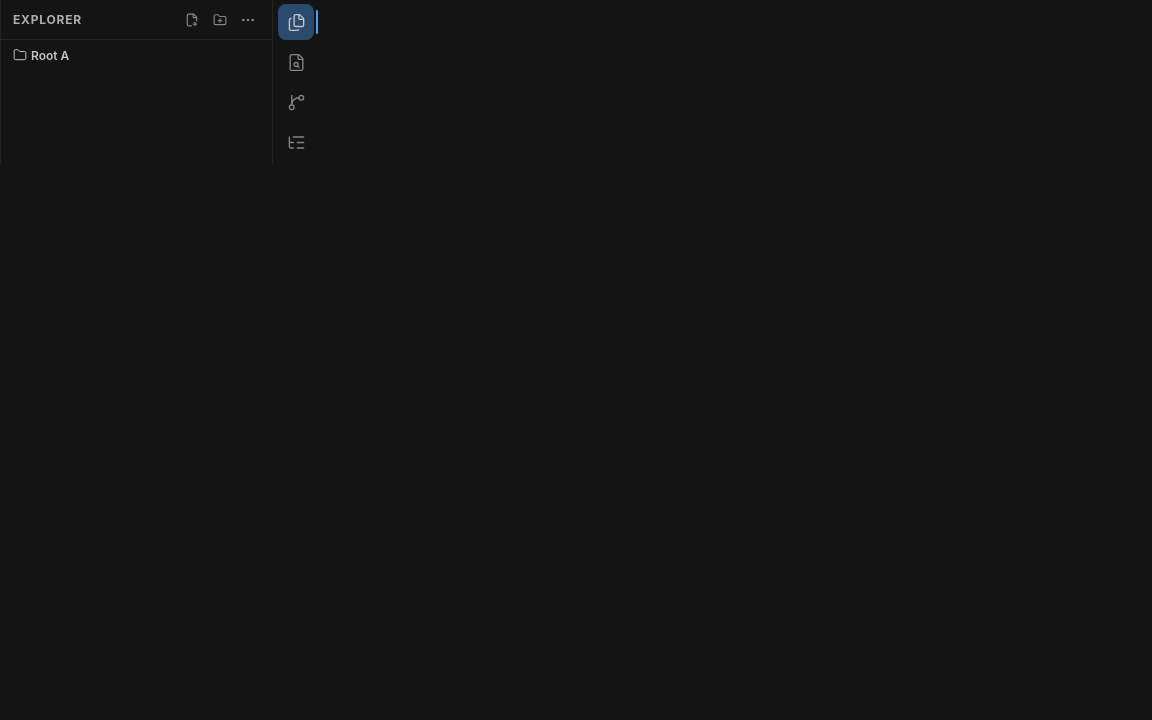
RightSidebar Explorer Rename File › closes instead of retargeting when another file is selected in the same Project
Click the button named "More Explorer actions": click(248, 20) x1=236 y1=8 x2=260 y2=32
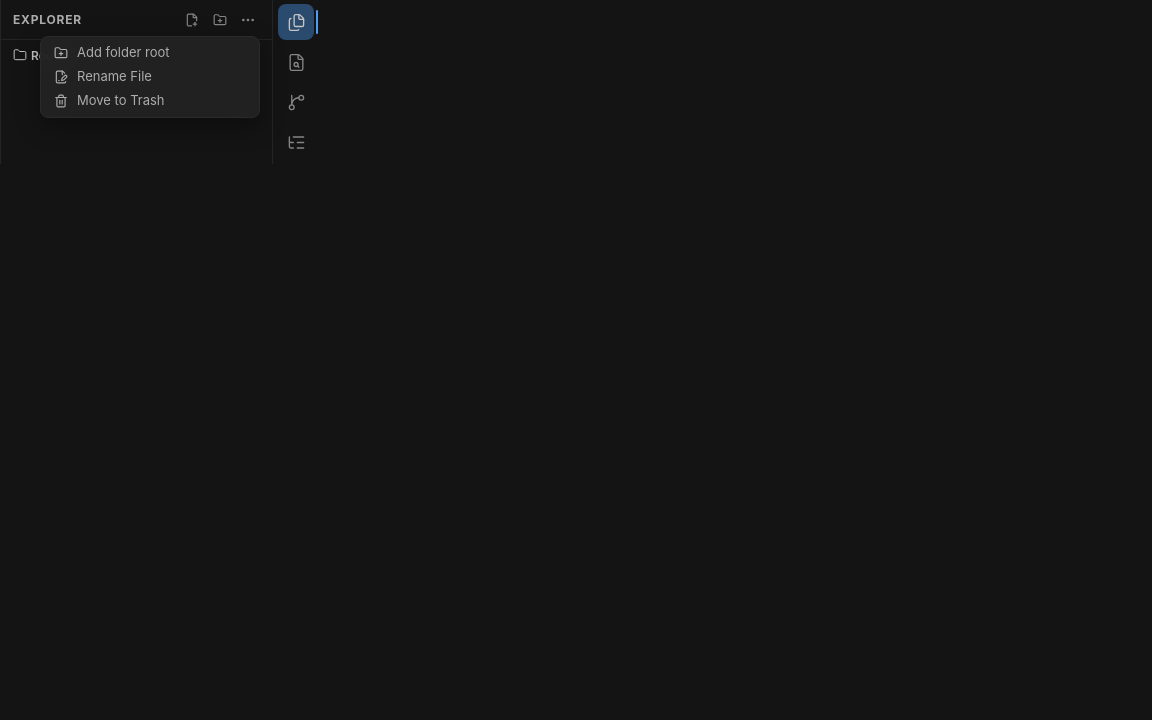
Click the menu item "Rename File": click(150, 76) x1=45 y1=64 x2=255 y2=88
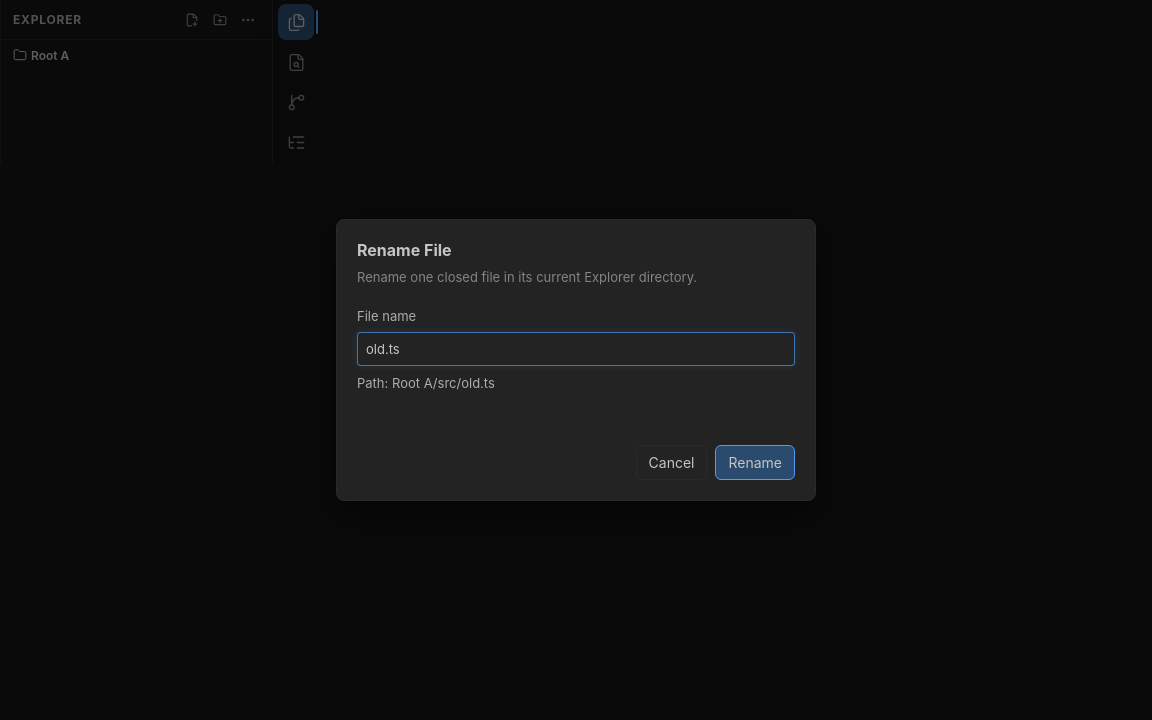
Check: the field labelled "File name" is shown, box x1=357 y1=332 x2=795 y2=366
